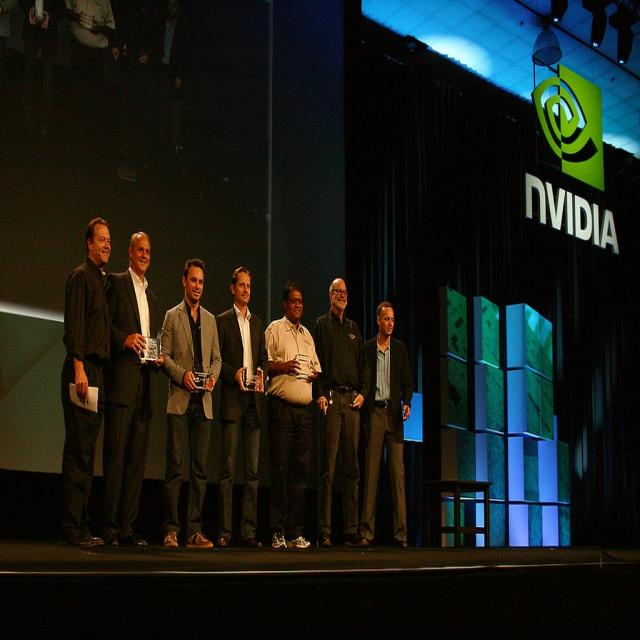nvidia: (533, 66, 606, 194)
